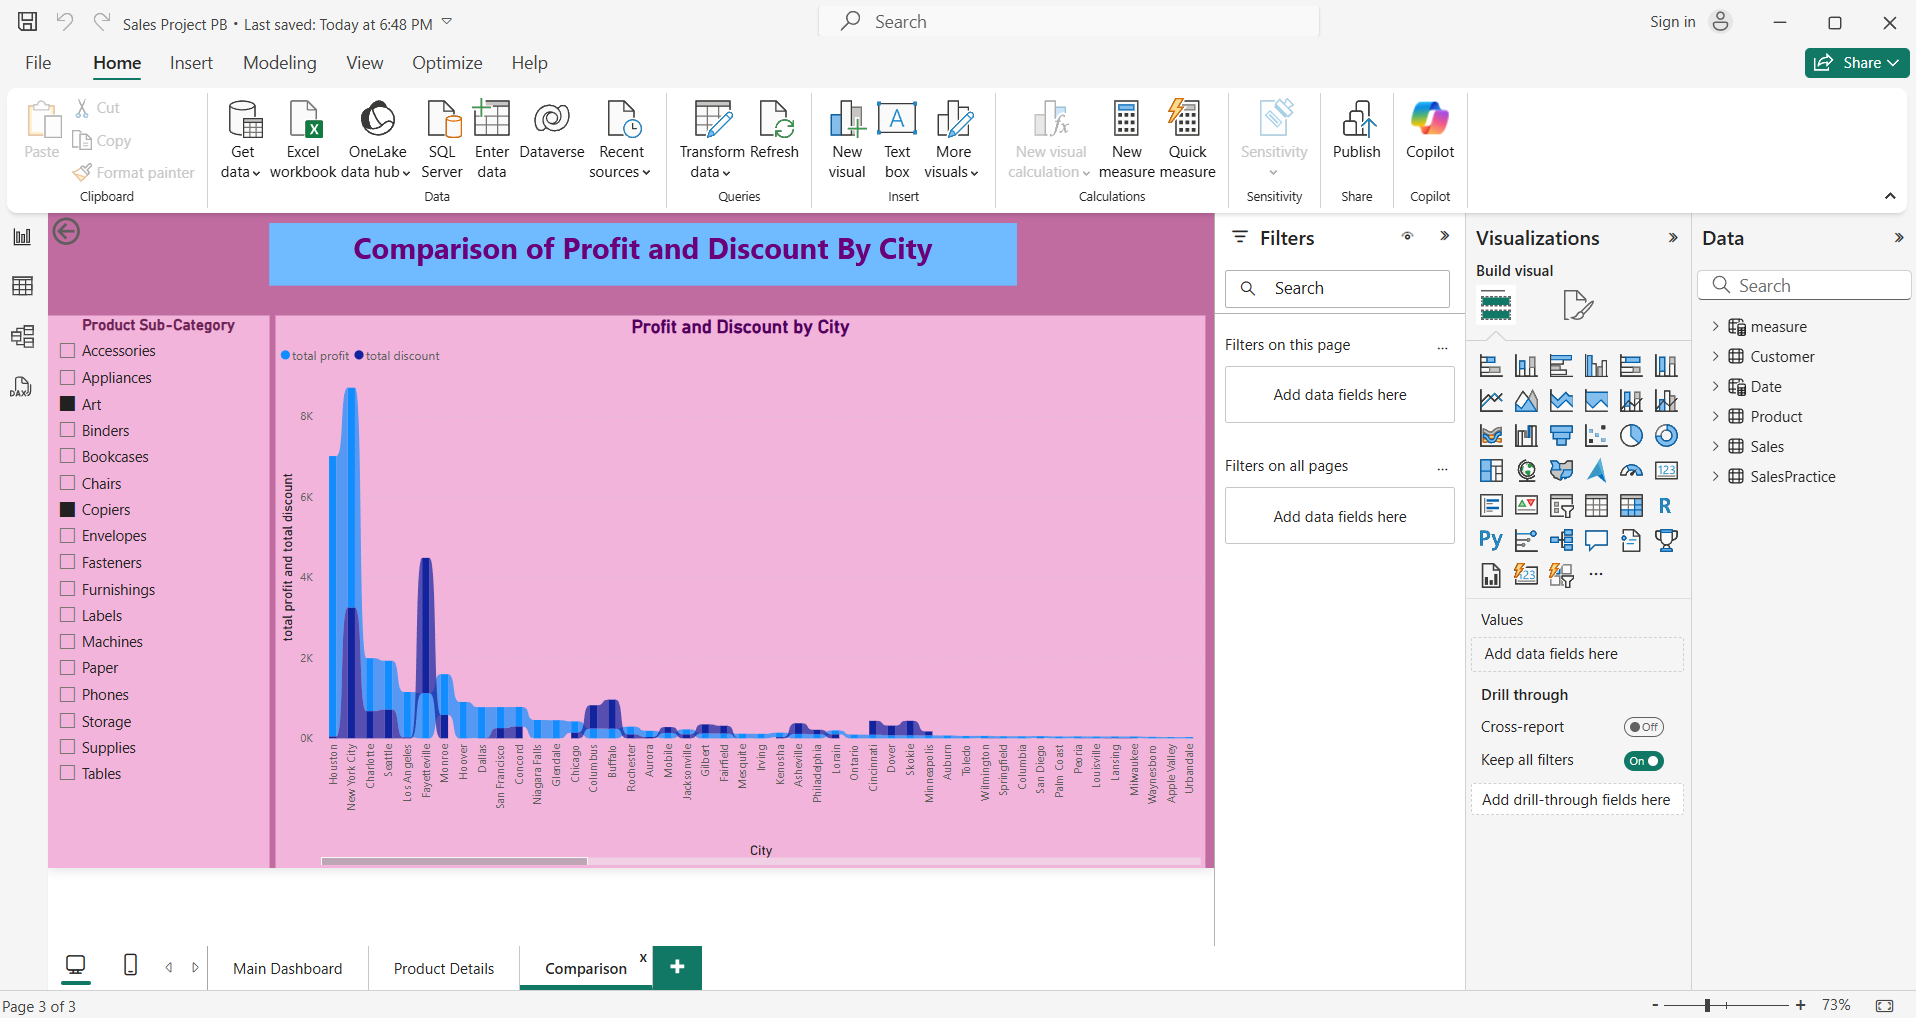

What the dashboard file says about the page in this screenshot:
{"tool":"powerbi","page":{"name":"Comparison","canvas":[1280,720],"ordinal":2},"visuals":[{"type":"slicer","title":"Product Sub-Category","fields":{"Values":["Product.Sub-Category"]},"box":[0,112.5,242.9,607.9],"z":0},{"type":"ribbonChart","title":"Profit and Discount by City","fields":{"Category":["Customer.City"],"Y":["measure.total profit","measure.total discount"]},"box":[249.7,112.1,1020.9,607.9],"z":1},{"type":"textbox","box":[242.9,11,820.6,68.6],"z":2},{"type":"actionButton","box":[0,0,100,40],"z":3}]}

Visuals, with their boxes on the page's 1280x720 design canvas (x1, y1, x2, y2). These are canvas units, not pixel positions in the 1916x1018 screenshot, which may show the page scaled, cropped or inside an application window:
"Product Sub-Category" slicer: (0,112,243,720)
"Profit and Discount by City" ribbonChart: (250,112,1271,720)
textbox: (243,11,1064,80)
actionButton: (0,0,100,40)
